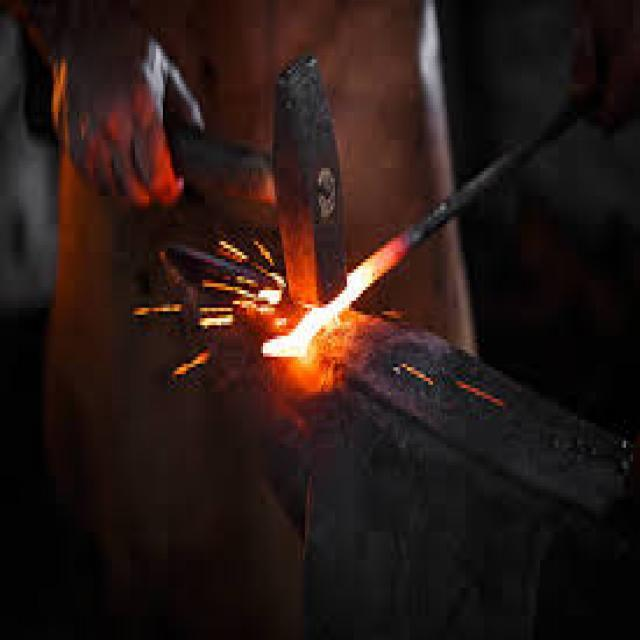hammer: (159, 40, 355, 320)
